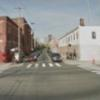crosswalks: (23, 62, 63, 69)
